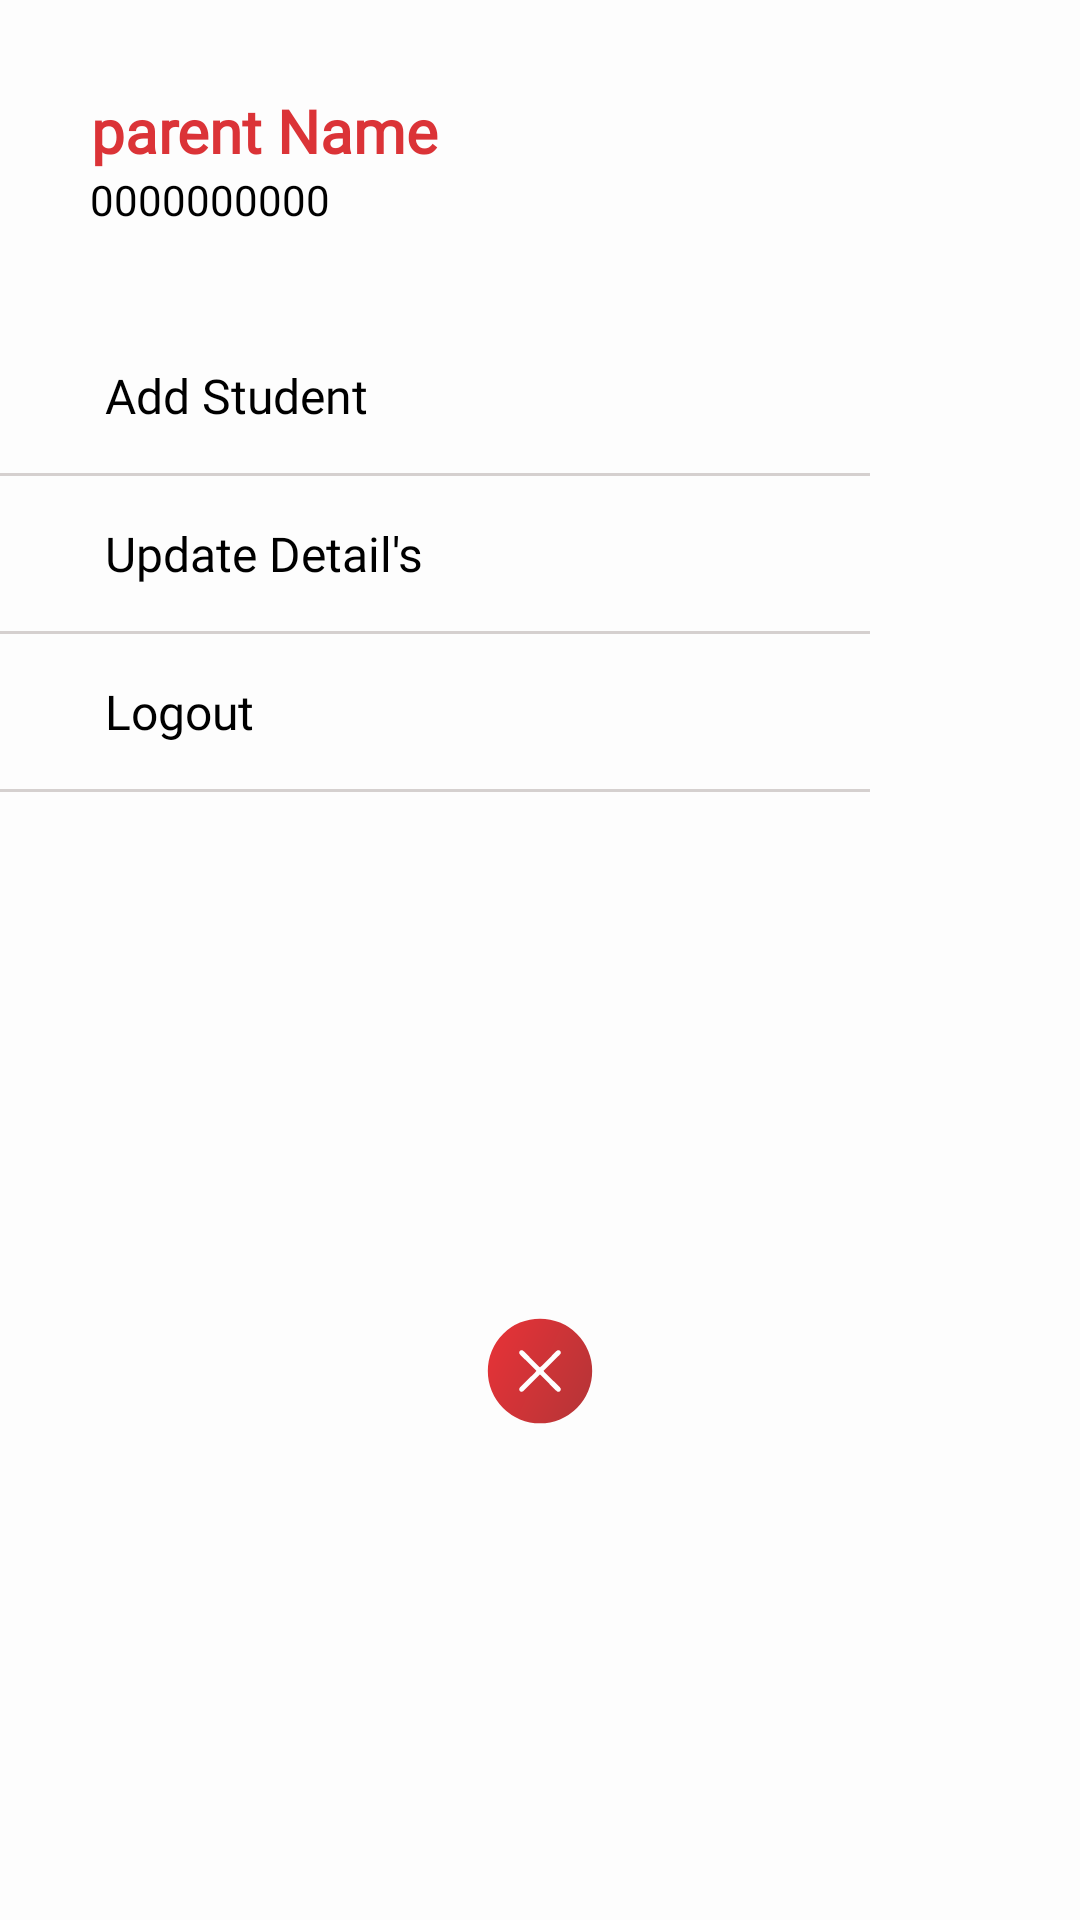

Named icons in this screenshot (1080×1920) and their bounding boxes, (x1, y1, x2, y2):
cancel: (487, 1318, 593, 1424)
